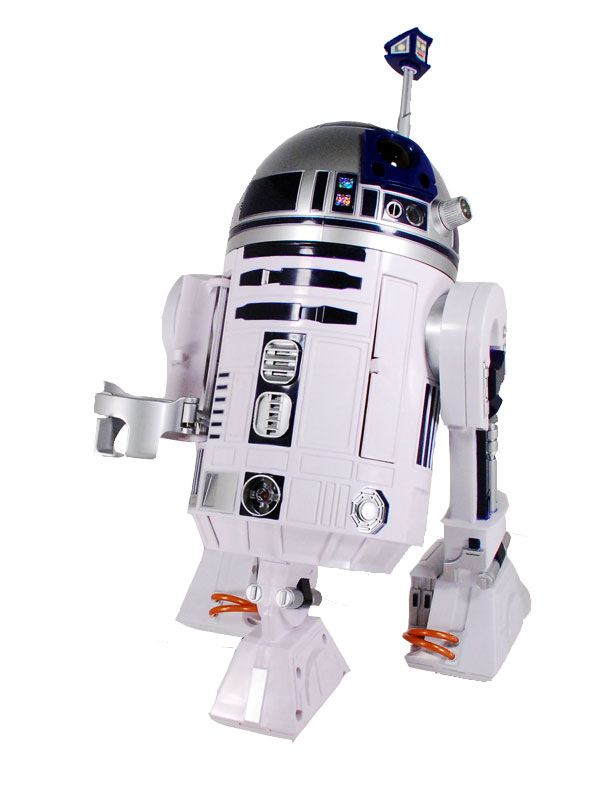r2d2: (161, 118, 530, 741)
